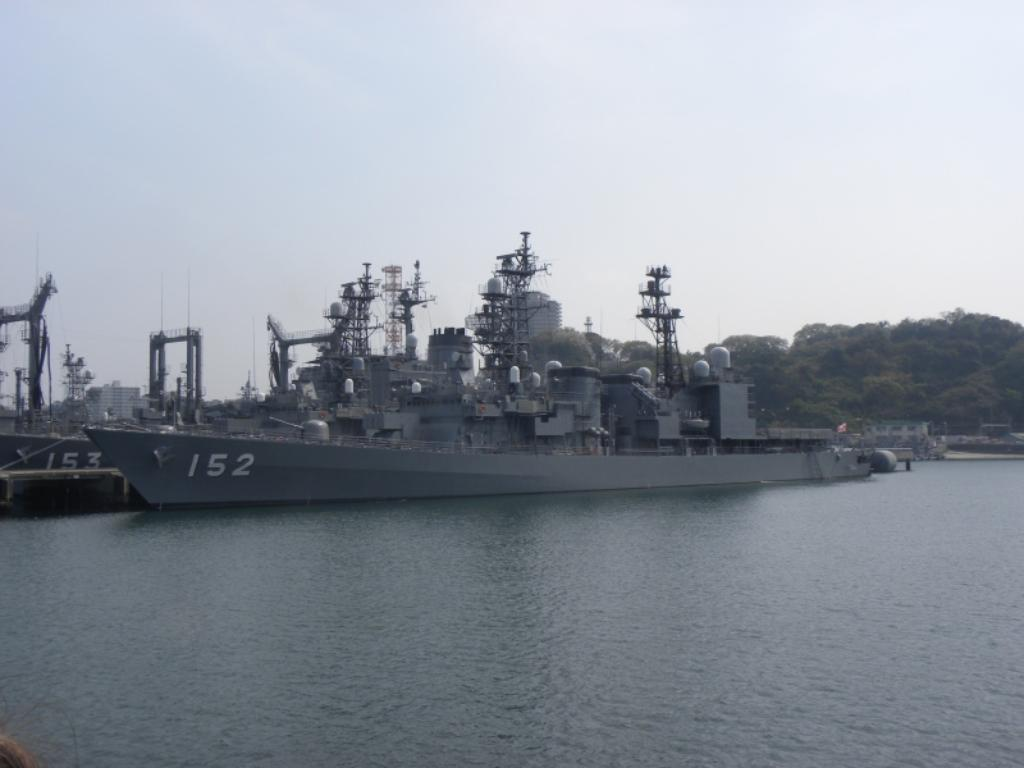Warship: (83, 225, 877, 514), (5, 252, 441, 478)
